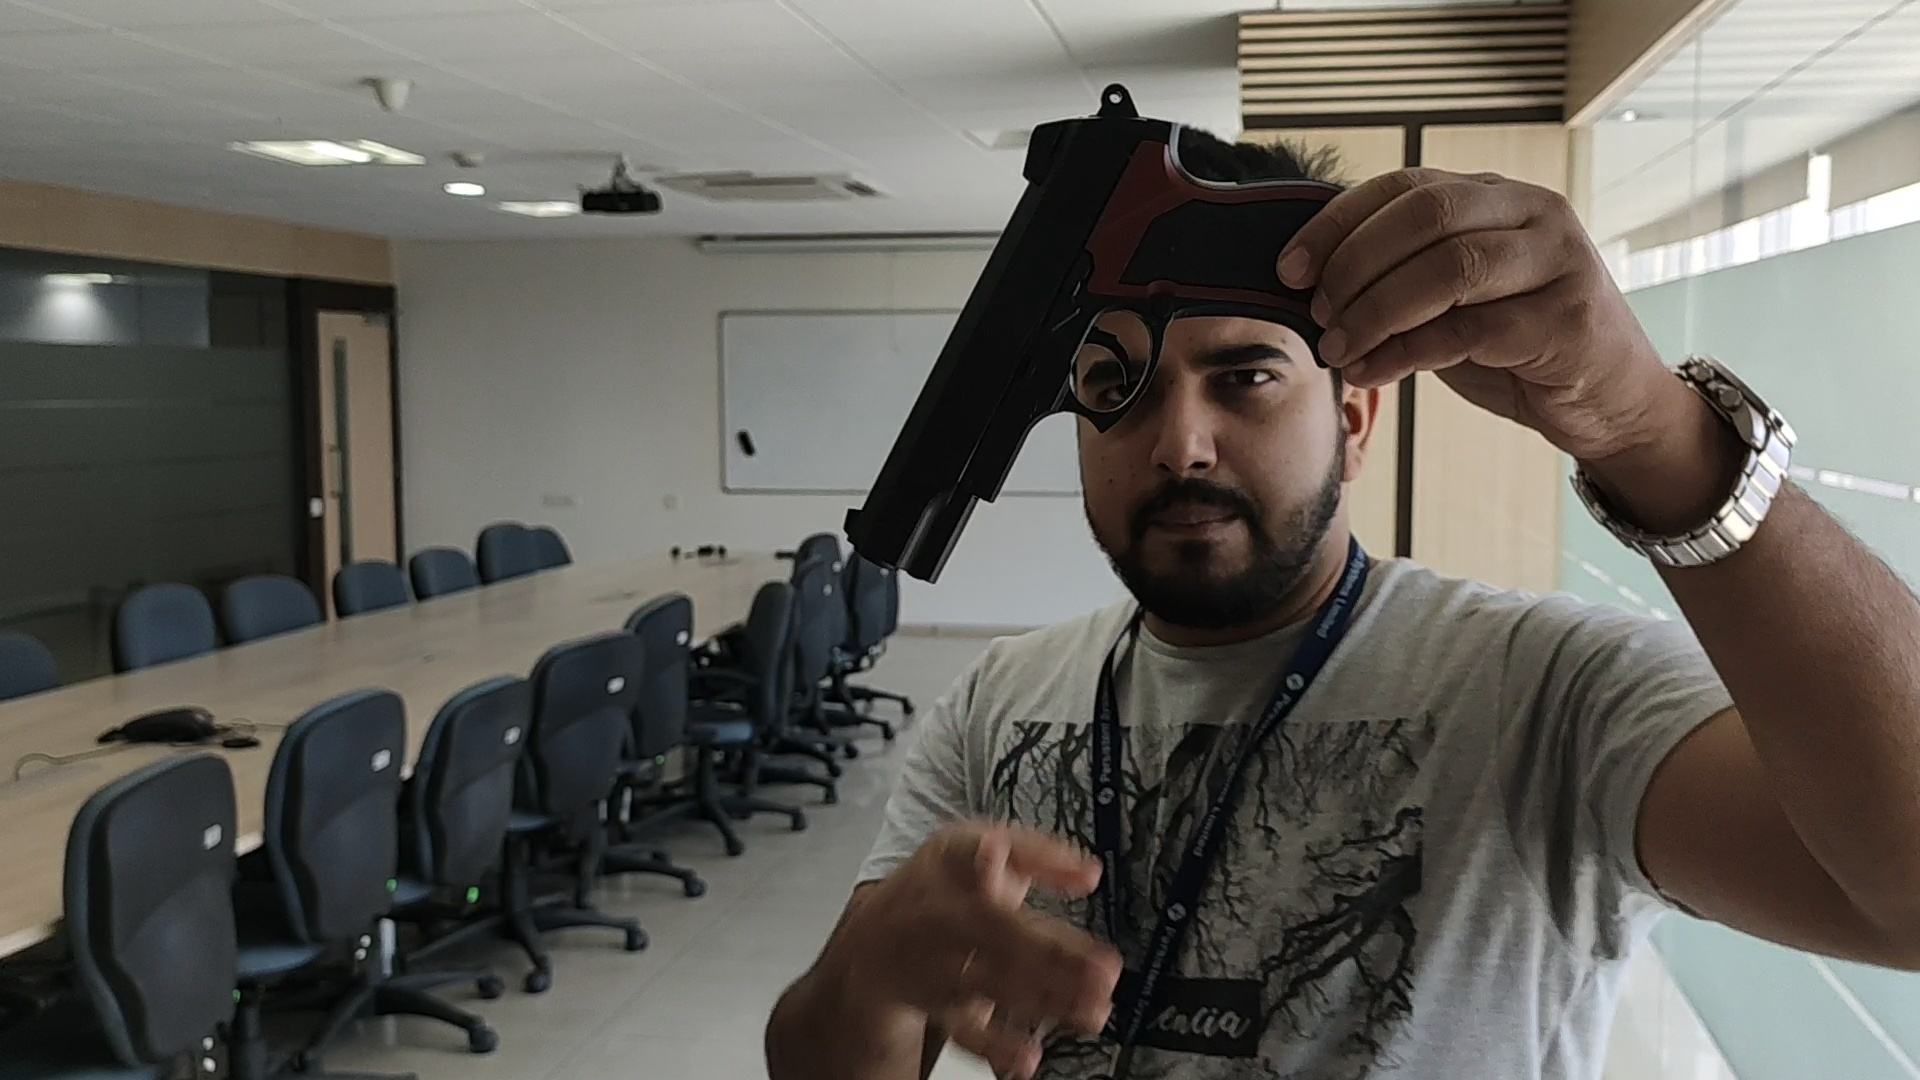gun: (837, 84, 1138, 578)
